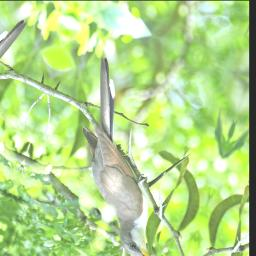Cuckoo: (48, 56, 207, 256)
